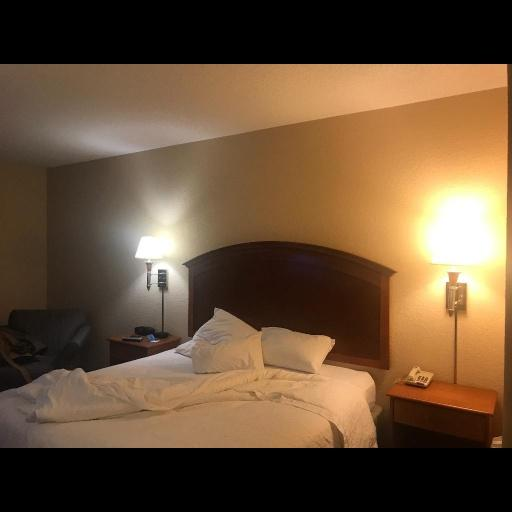Disorganized_pillow: (173, 303, 331, 384)
lamp: (407, 188, 501, 320), (125, 237, 169, 290)
messy_bed: (1, 236, 388, 455)
